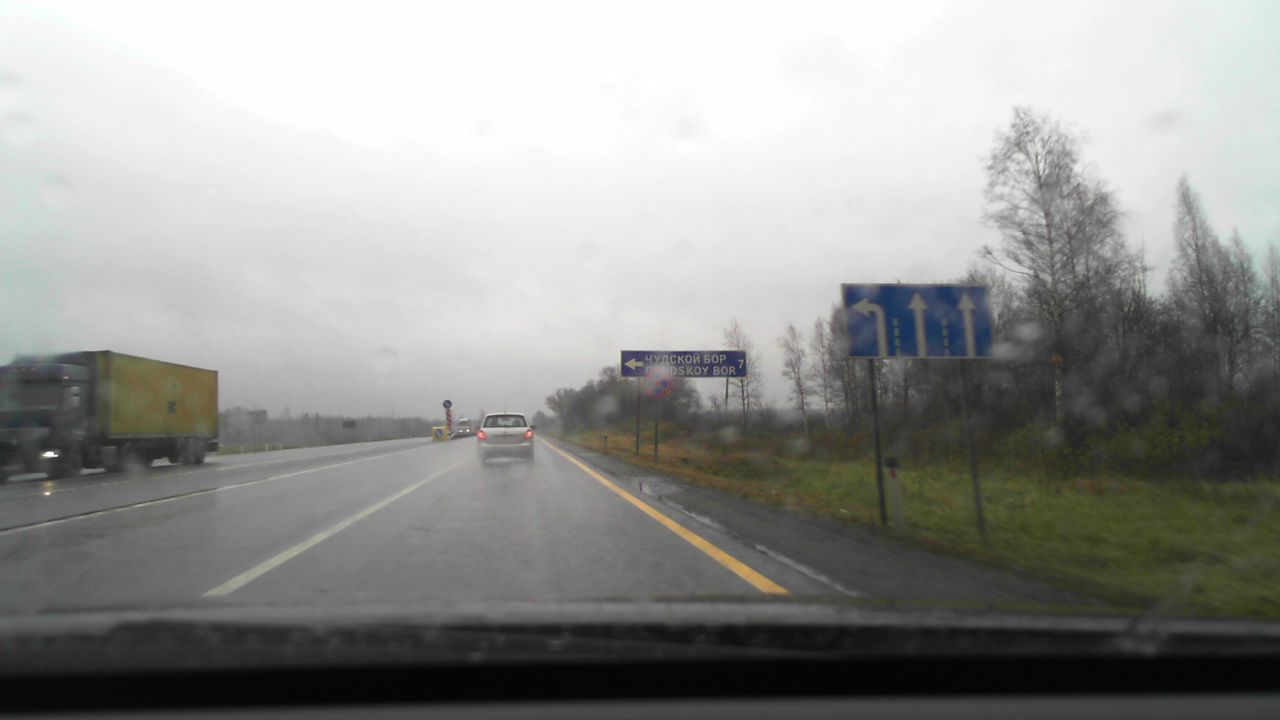No Parking: (642, 368, 672, 399)
